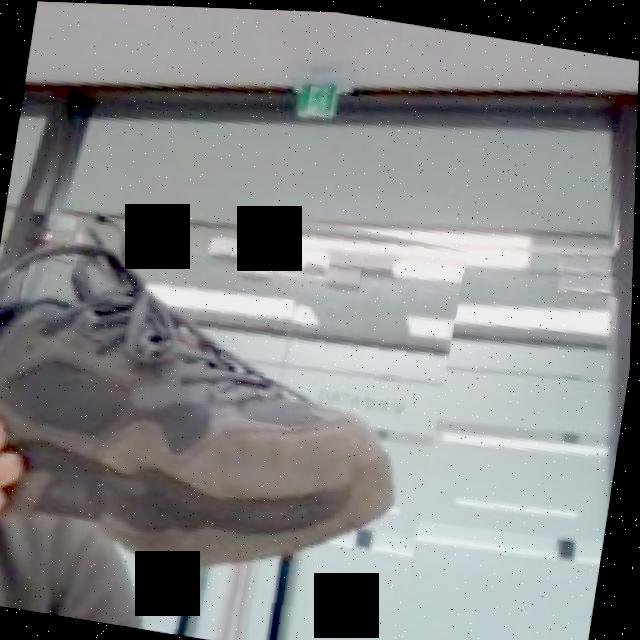shoe: (0, 160, 471, 640)
